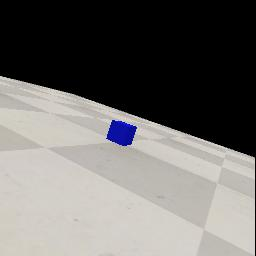box: (106, 120, 137, 146)
